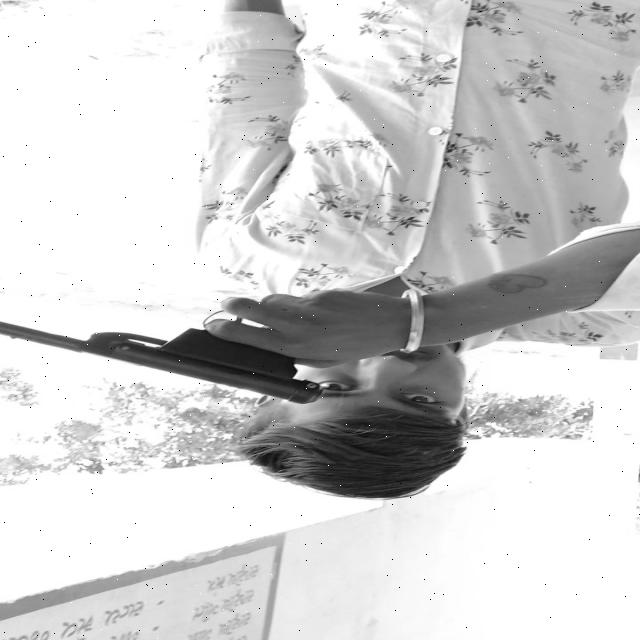gun: (0, 292, 341, 409)
